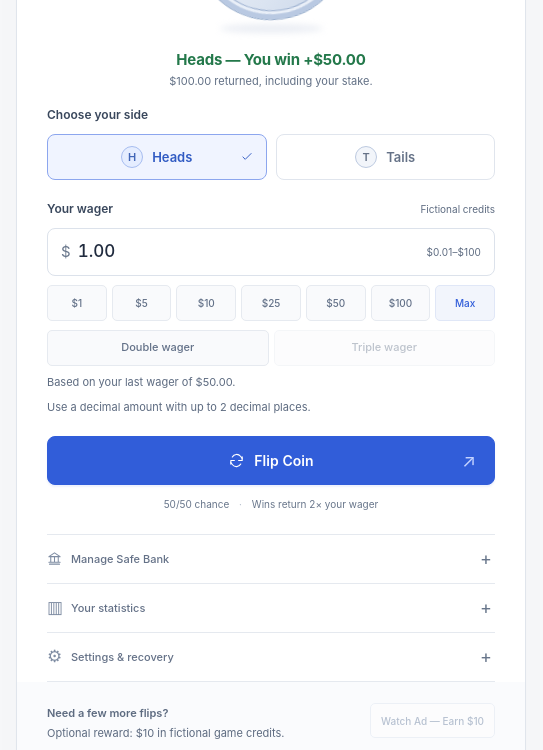
Test: allows exactly $100 but disables multipliers above the per-wager cap
(page scrolled)
Click the button "Double wager" at (158, 348), box [47, 330, 268, 366]
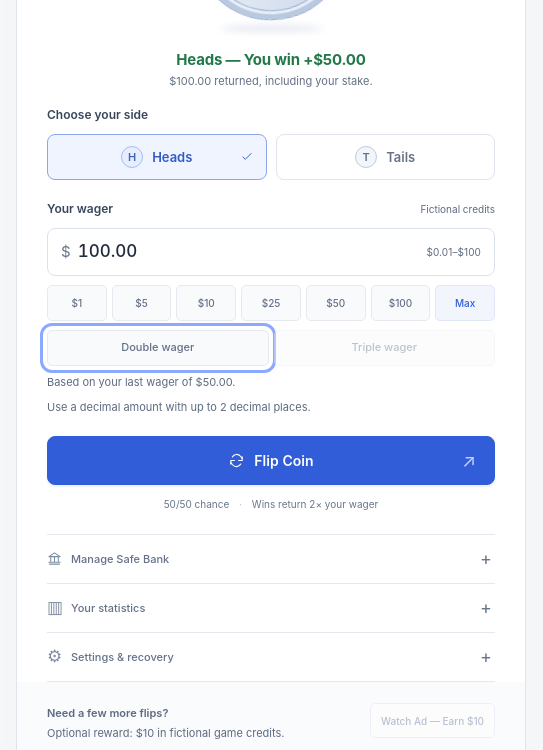
Expected: the button "Triple wager" is disabled, [274, 330, 495, 366]
Expected: the field labelled "Your wager Fictional credits" holds "100.00", [78, 229, 419, 274]
